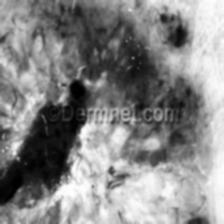Potentially Malignant Skin Tumors: (0, 88, 113, 209), (124, 14, 202, 102)
